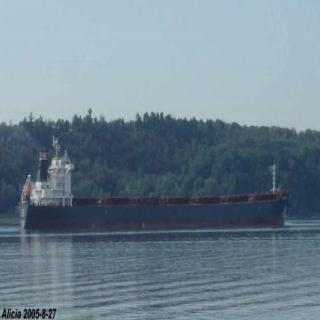Bulk Carrier: (7, 147, 299, 229)
